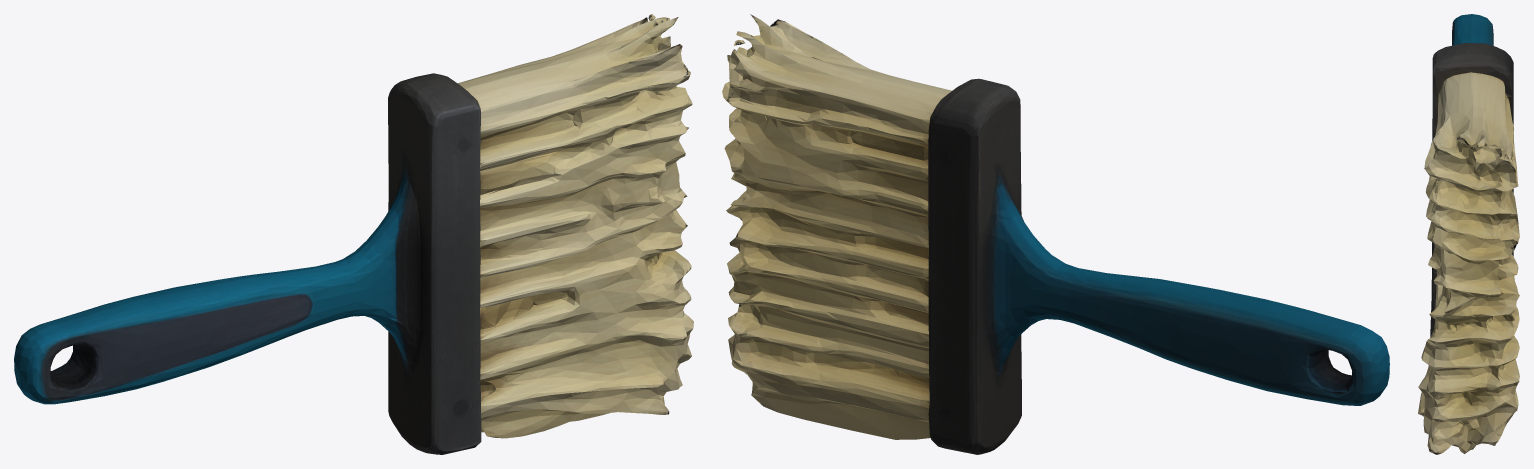
Rendered from blue_brush.glb.
3 renders of one model, left to right at view 1: azimuth 30°, elevation 25°; view 2: azimuth 150°, elevation 25°; view 3: azimuth 270°, elevation 25°, orthographic. The views are drawn at different scales.
Parts seen in each view (by area): view 1: blue_brush_visual0_0; view 2: blue_brush_visual0_0; view 3: blue_brush_visual0_0.
Part boxes in pixels (x1,y1,x2,y2): blue_brush_visual0_0: (14, 14, 693, 454); blue_brush_visual0_0: (722, 14, 1389, 454); blue_brush_visual0_0: (1418, 14, 1519, 454).
Bounding box in the file's own units: 0.2997 × 0.1658 × 0.0468.
Materials: 1 (1 with a texture image).
